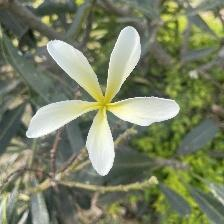champaka: (25, 24, 185, 184)
